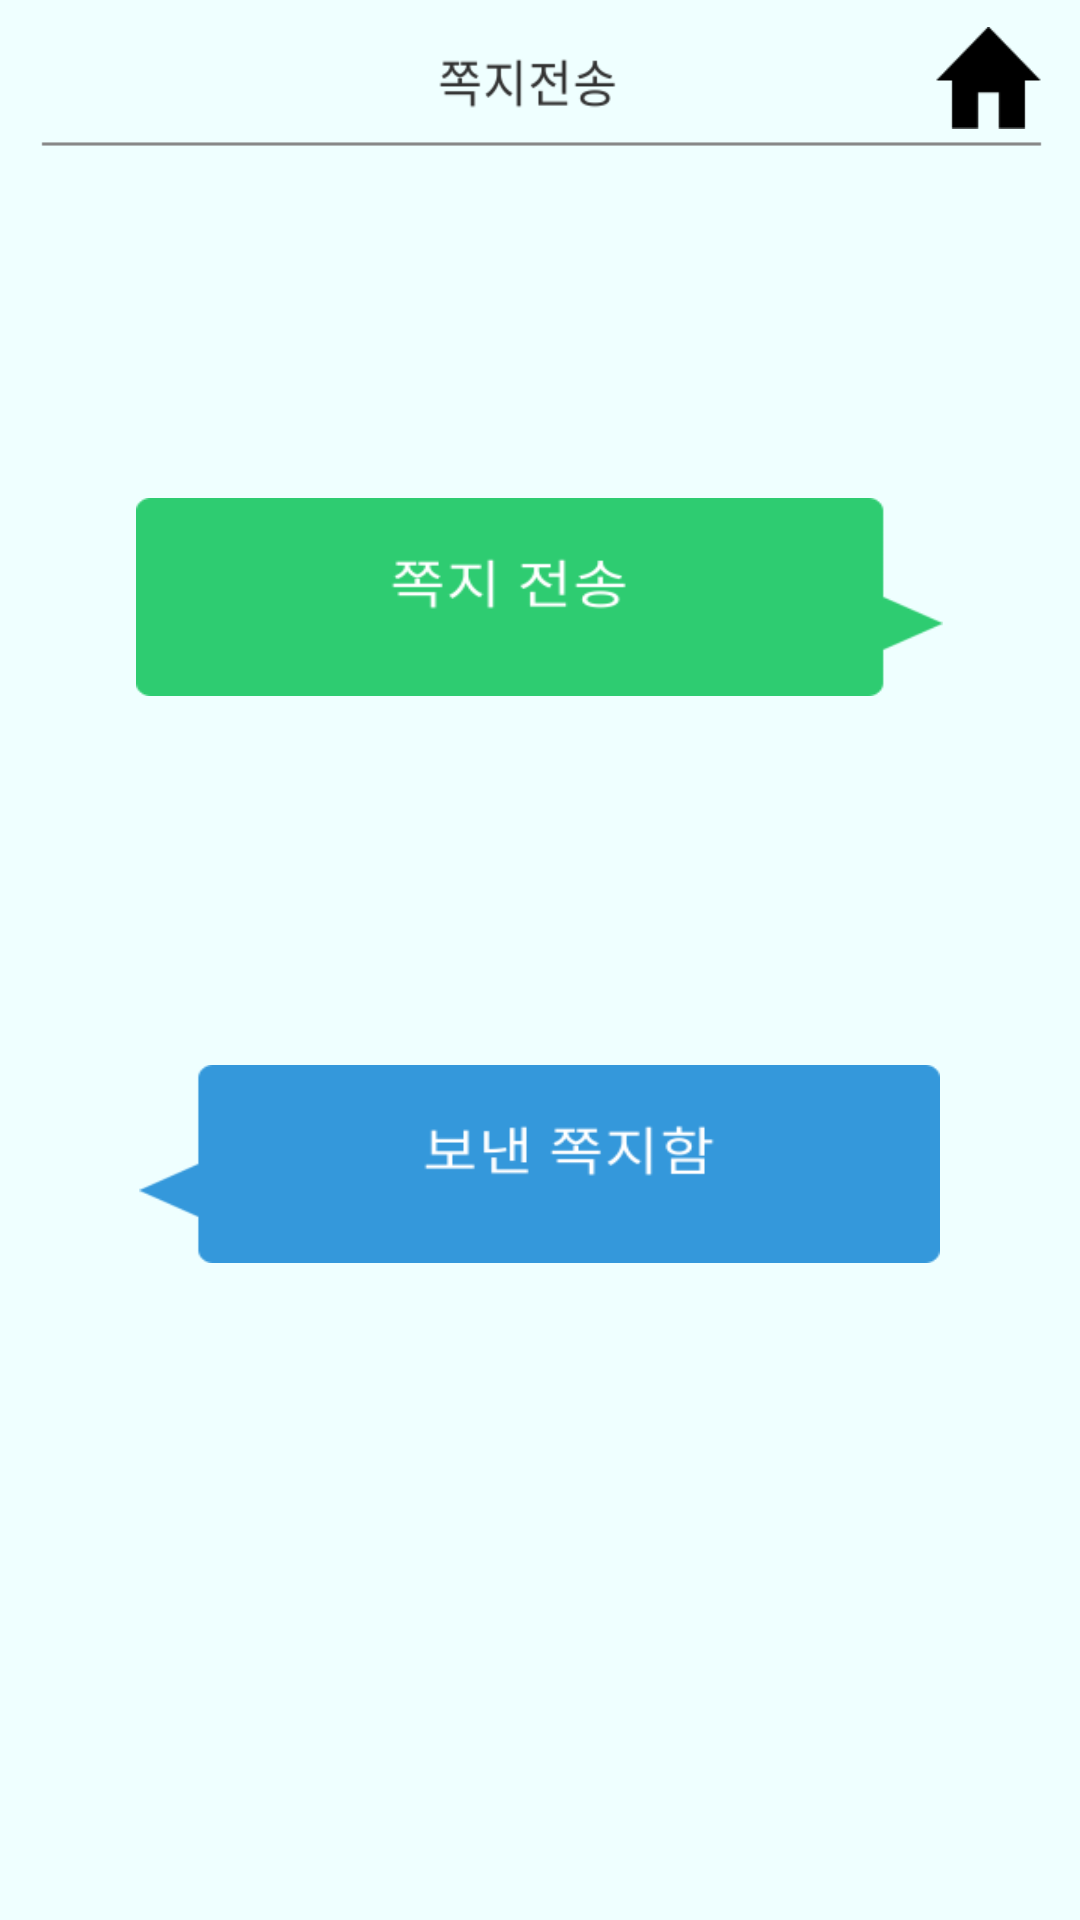

Named icons in this screenshot (1080w x 1920h) and their centers, (x=x, y=y):
imgbtn home: (x=988, y=78)
